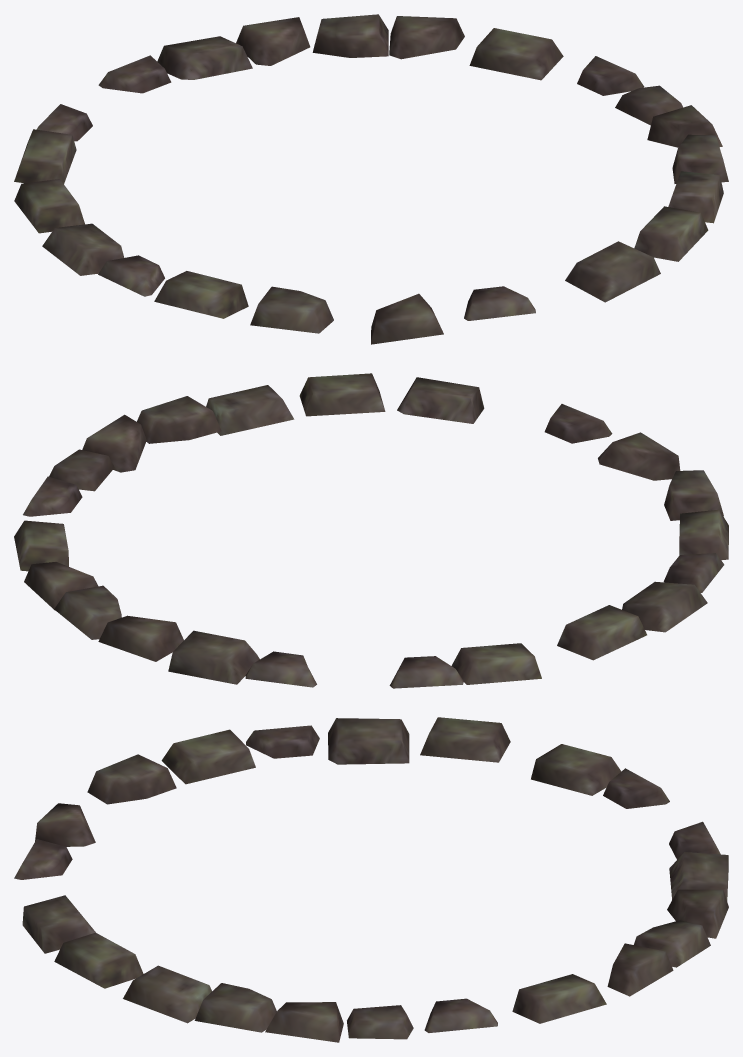
The model's file is Rocks_303.FBX.
3 views of the same model, one above another, from view 1: azimuth 30°, elevation 25°; view 2: azimuth 150°, elevation 25°; view 3: azimuth 270°, elevation 25° (orthographic).
Parts seen in each view (by area): view 1: Rocks_303; view 2: Rocks_303; view 3: Rocks_303.
Boxes of the visible parts, x1=… form: Rocks_303: x1=14, y1=14, x2=728, y2=344; Rocks_303: x1=14, y1=373, x2=728, y2=688; Rocks_303: x1=14, y1=717, x2=728, y2=1042.
Size of the model in its own units: 366 by 18.96 by 360.
